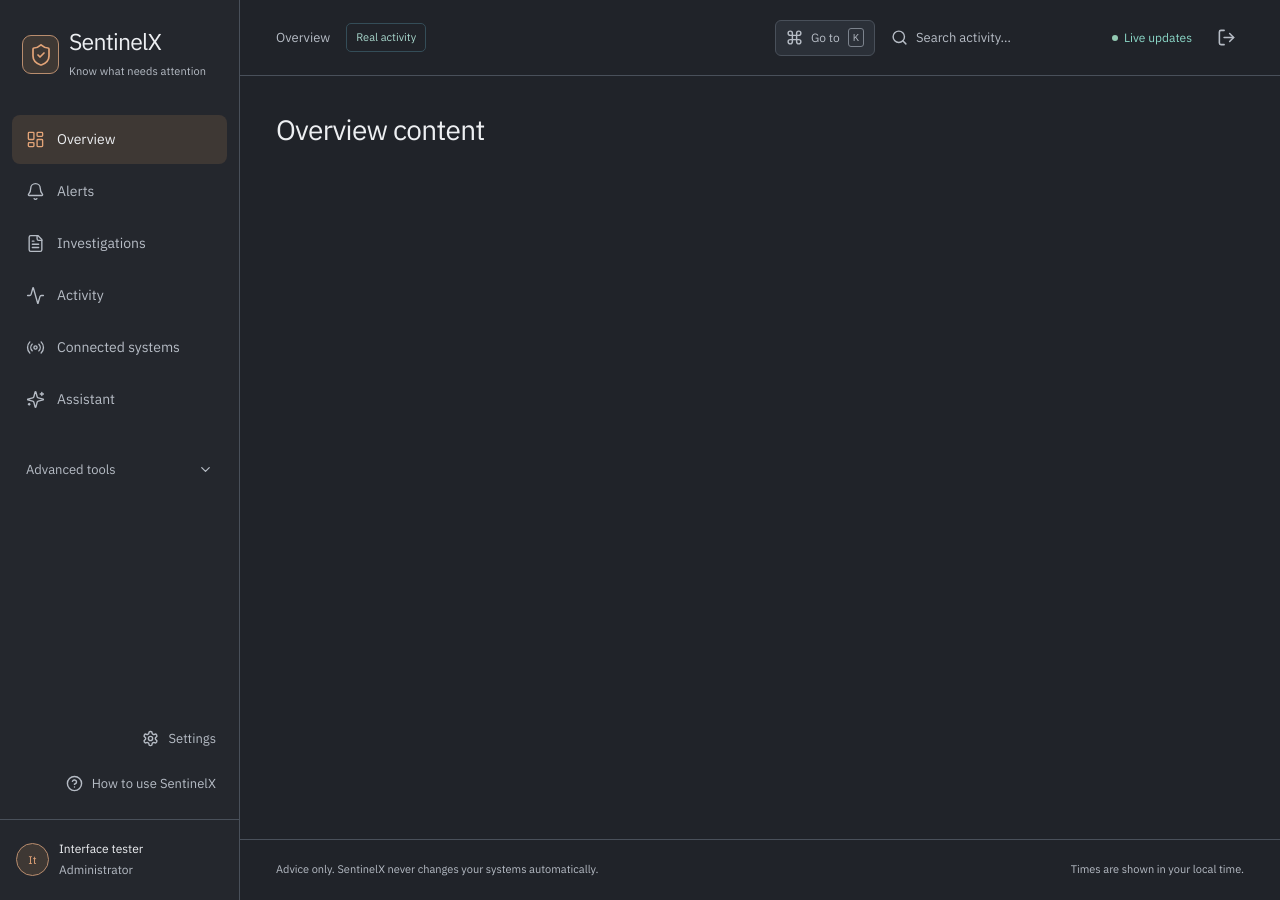
it: quick page navigation › handles no matches and arrow-key choices without submitting an action
The image size is (1280, 900).
Click the button with aria-label "Go to a page" at (825, 38), box left=775, top=20, right=875, bottom=56
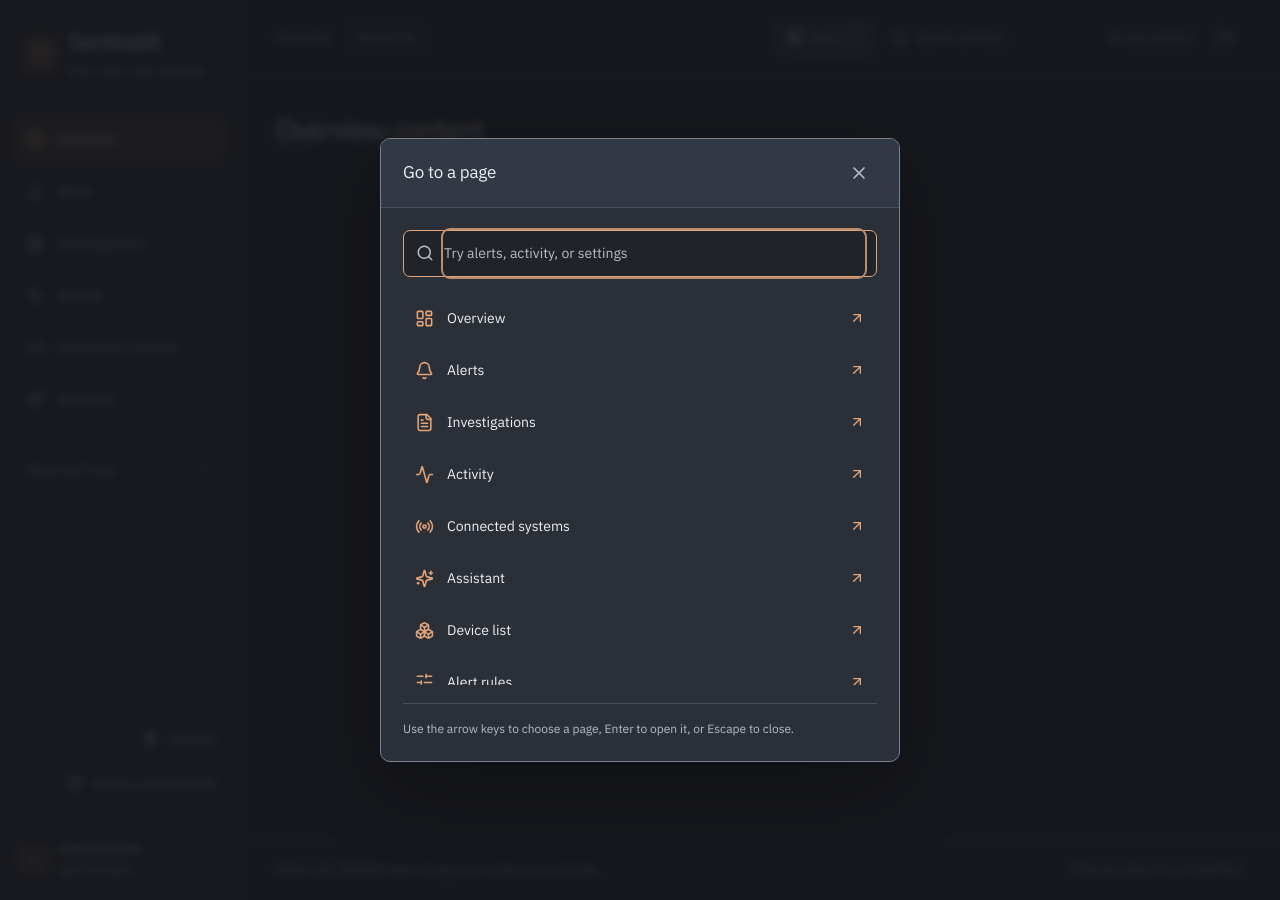
Type "no matching page" into the field named "Find a page" at (654, 253), box left=444, top=231, right=864, bottom=276
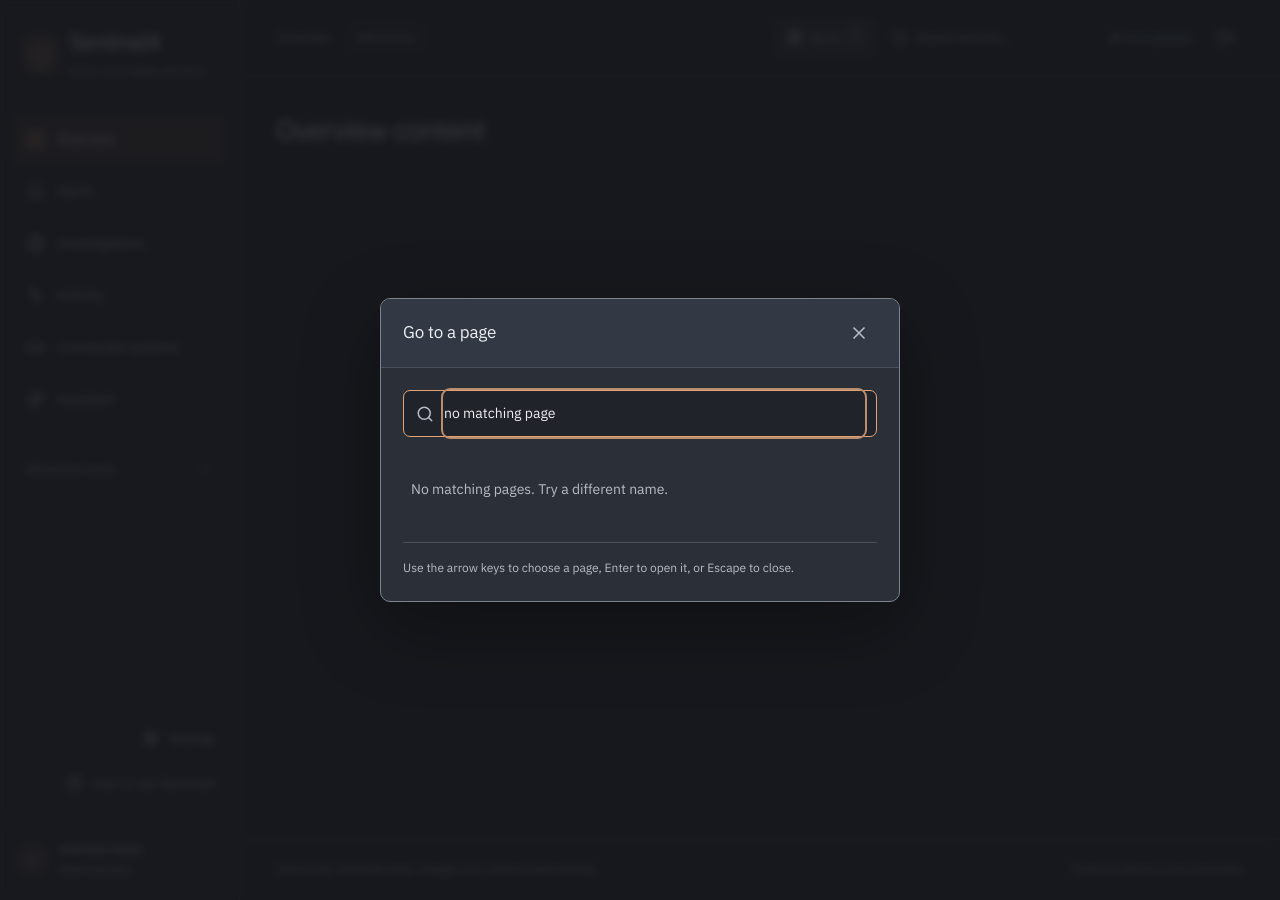
Check: the text "No matching pages. Try a different name." is shown, box left=411, top=480, right=668, bottom=498
Submit the form named "Find a page", box left=403, top=390, right=877, bottom=579
Check: the dialog is shown, box left=380, top=298, right=900, bottom=602
Clear the field named "Find a page" at (654, 414), box left=444, top=391, right=864, bottom=436
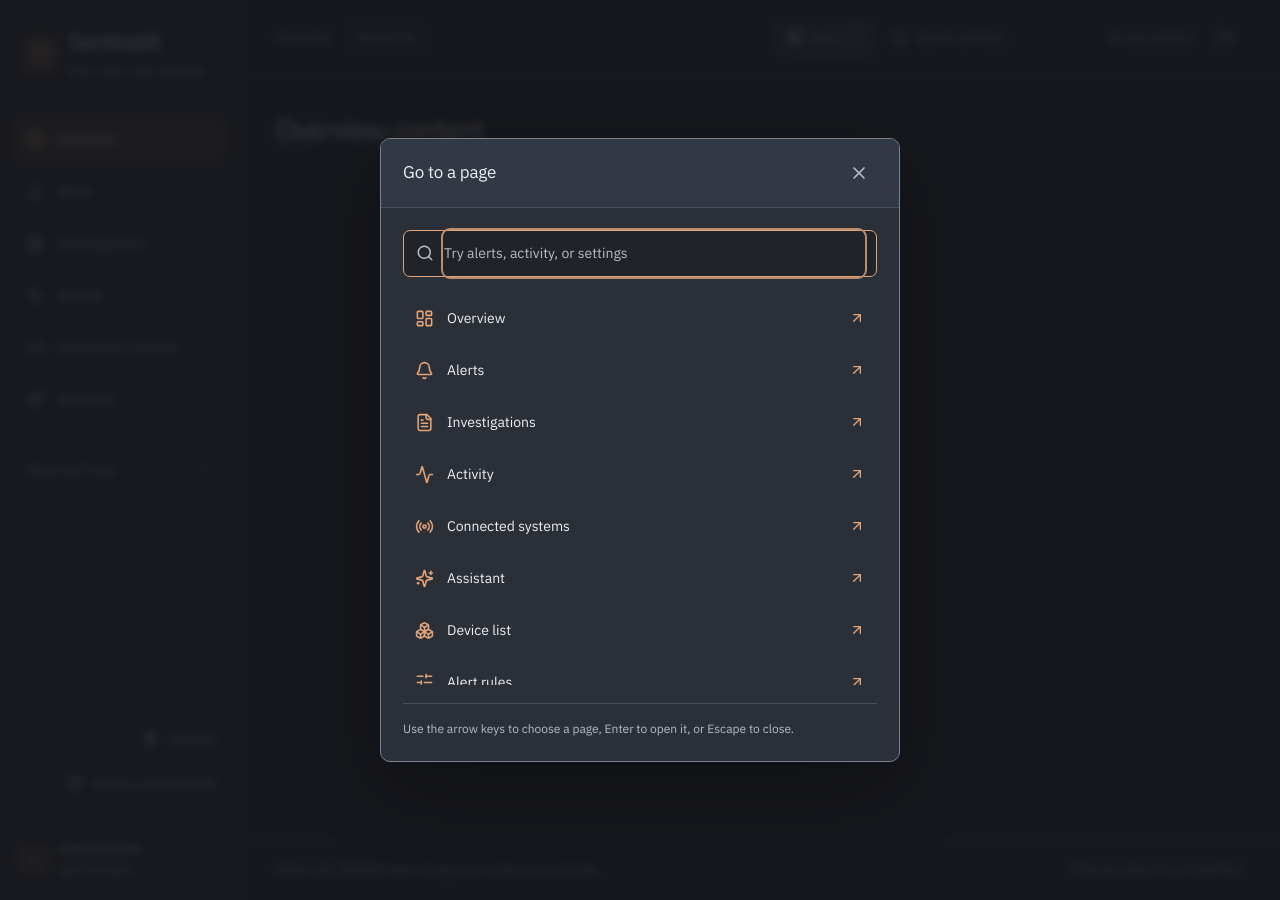
Press ArrowDown in the field named "Find a page", box left=444, top=231, right=864, bottom=276
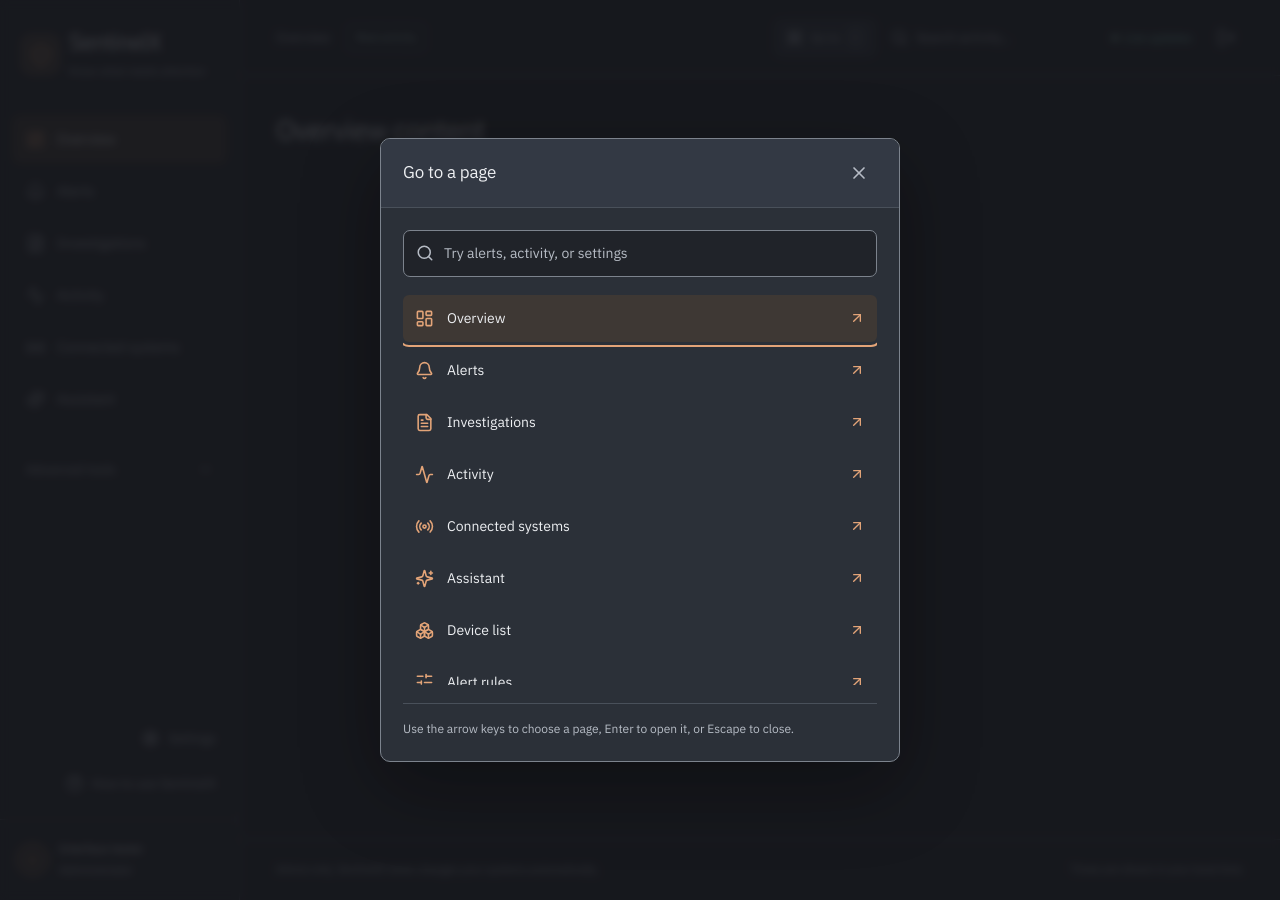
Press ArrowDown in the button "Overview", box left=403, top=295, right=877, bottom=342
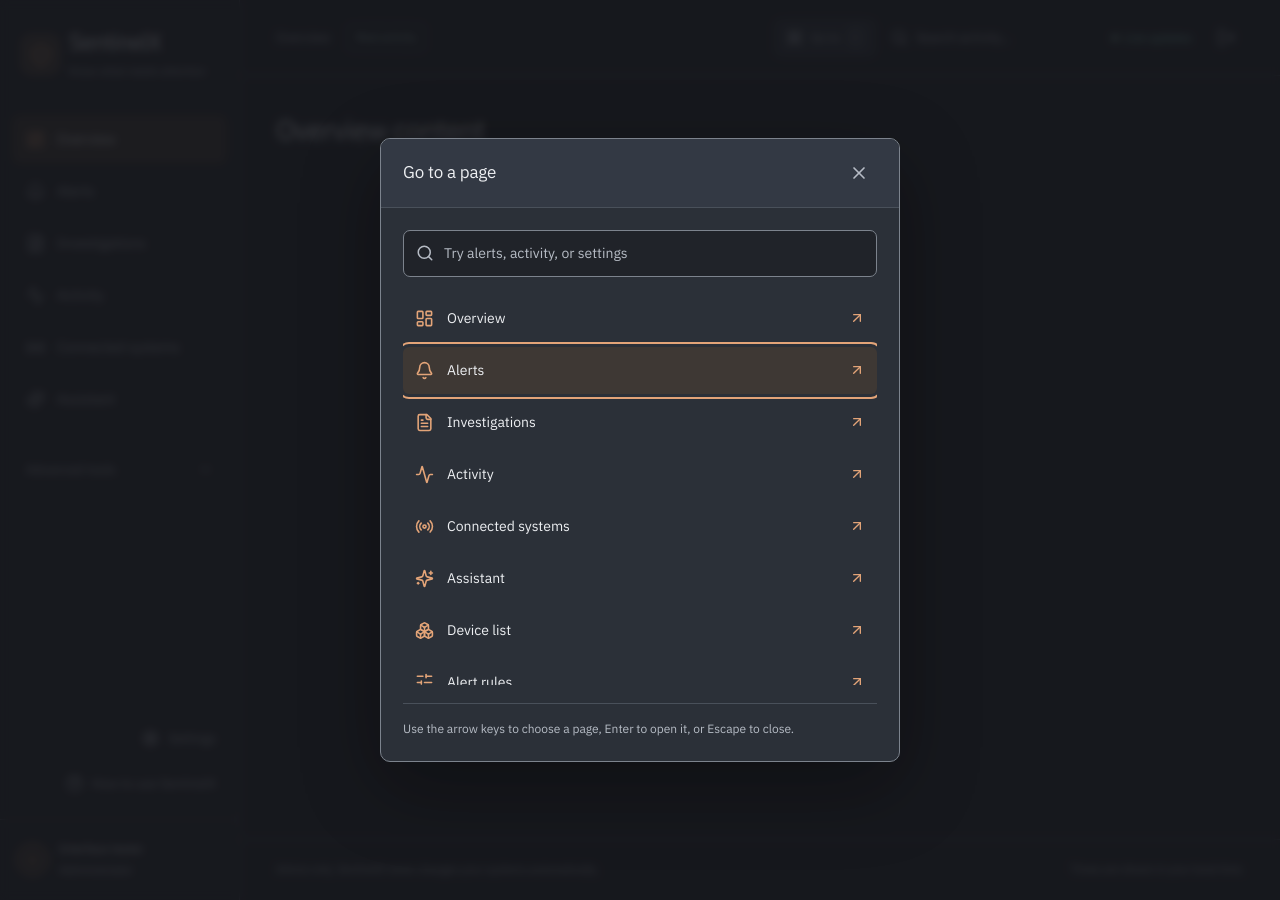
Press Escape
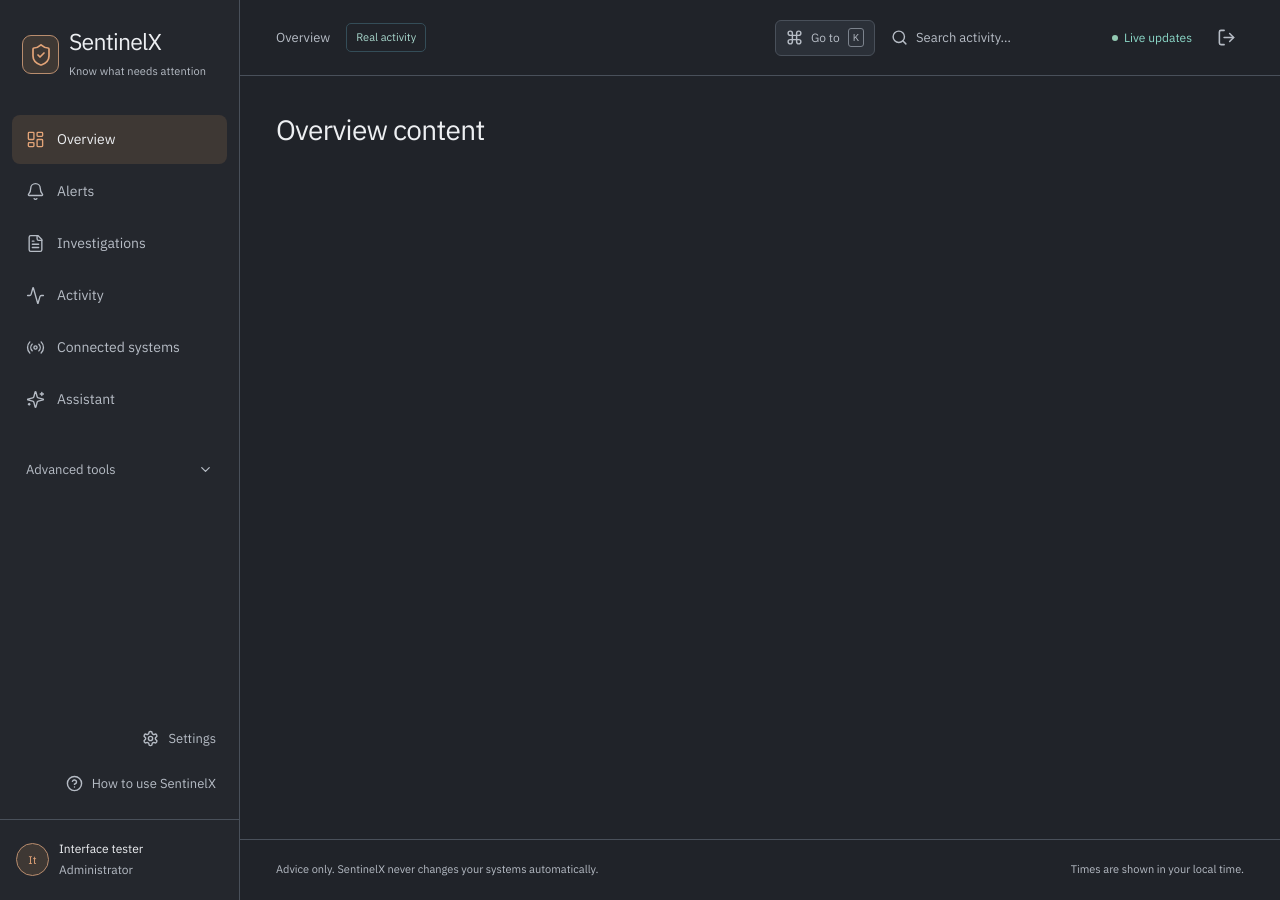
Check: the dialog is gone
